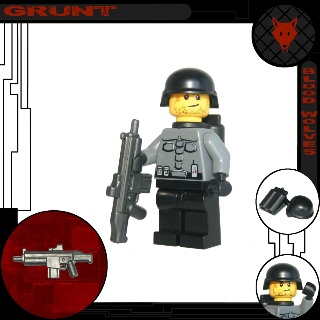rifle: (105, 117, 152, 247), (12, 242, 96, 284)
